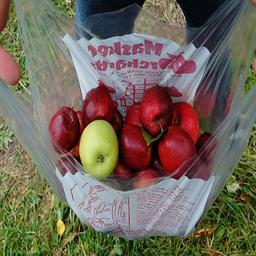apple: (79, 120, 120, 178), (158, 123, 196, 175), (140, 86, 174, 133), (47, 106, 80, 154), (120, 124, 154, 170), (80, 83, 114, 123), (169, 101, 199, 143)
